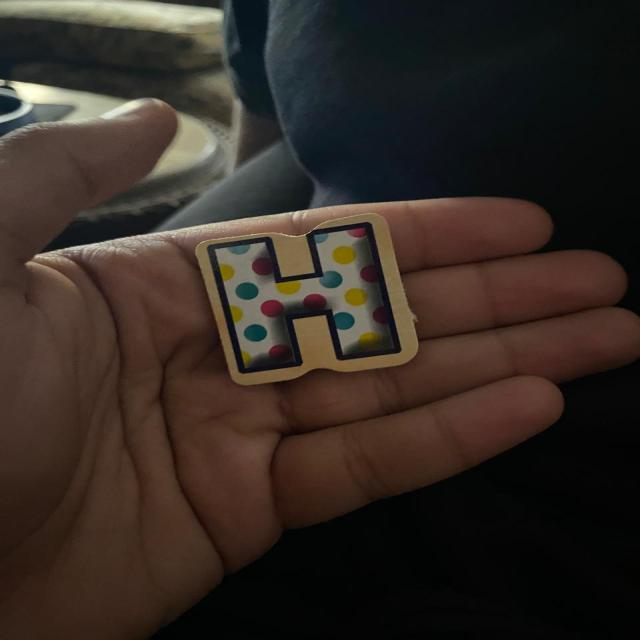H: (196, 214, 417, 386)
